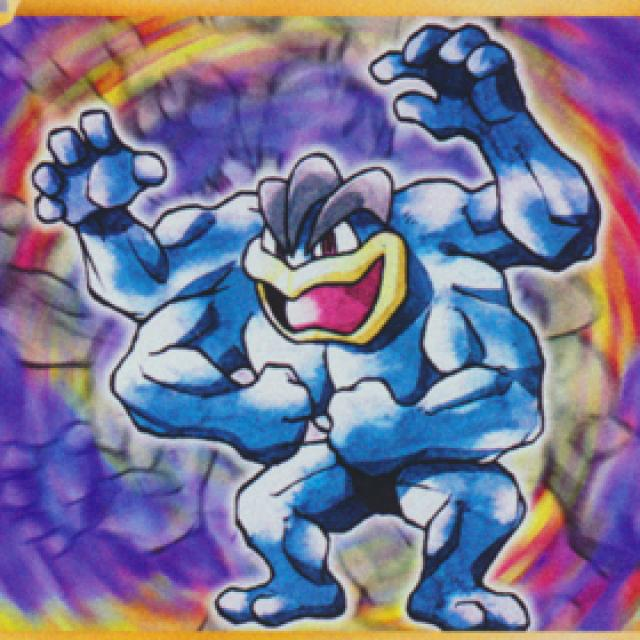Machamp: (114, 150, 559, 639)
